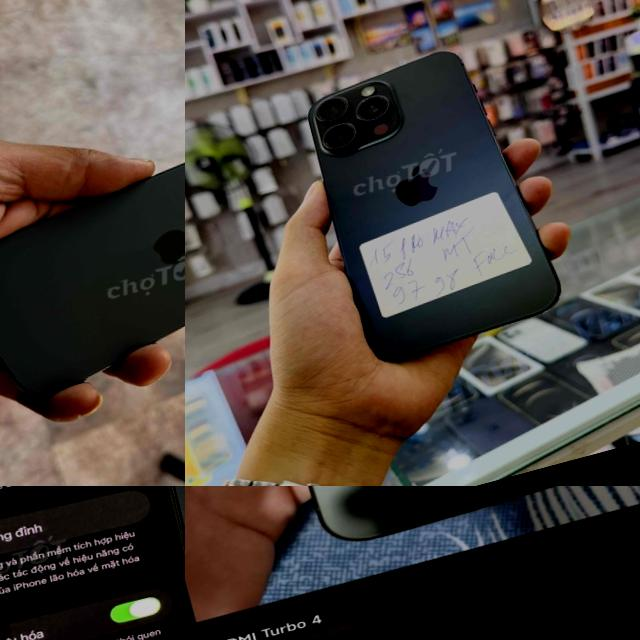gen_12_13: (185, 486, 640, 570), (0, 486, 185, 640)
gen_15: (264, 25, 587, 382)
gen_17: (0, 102, 185, 416)
